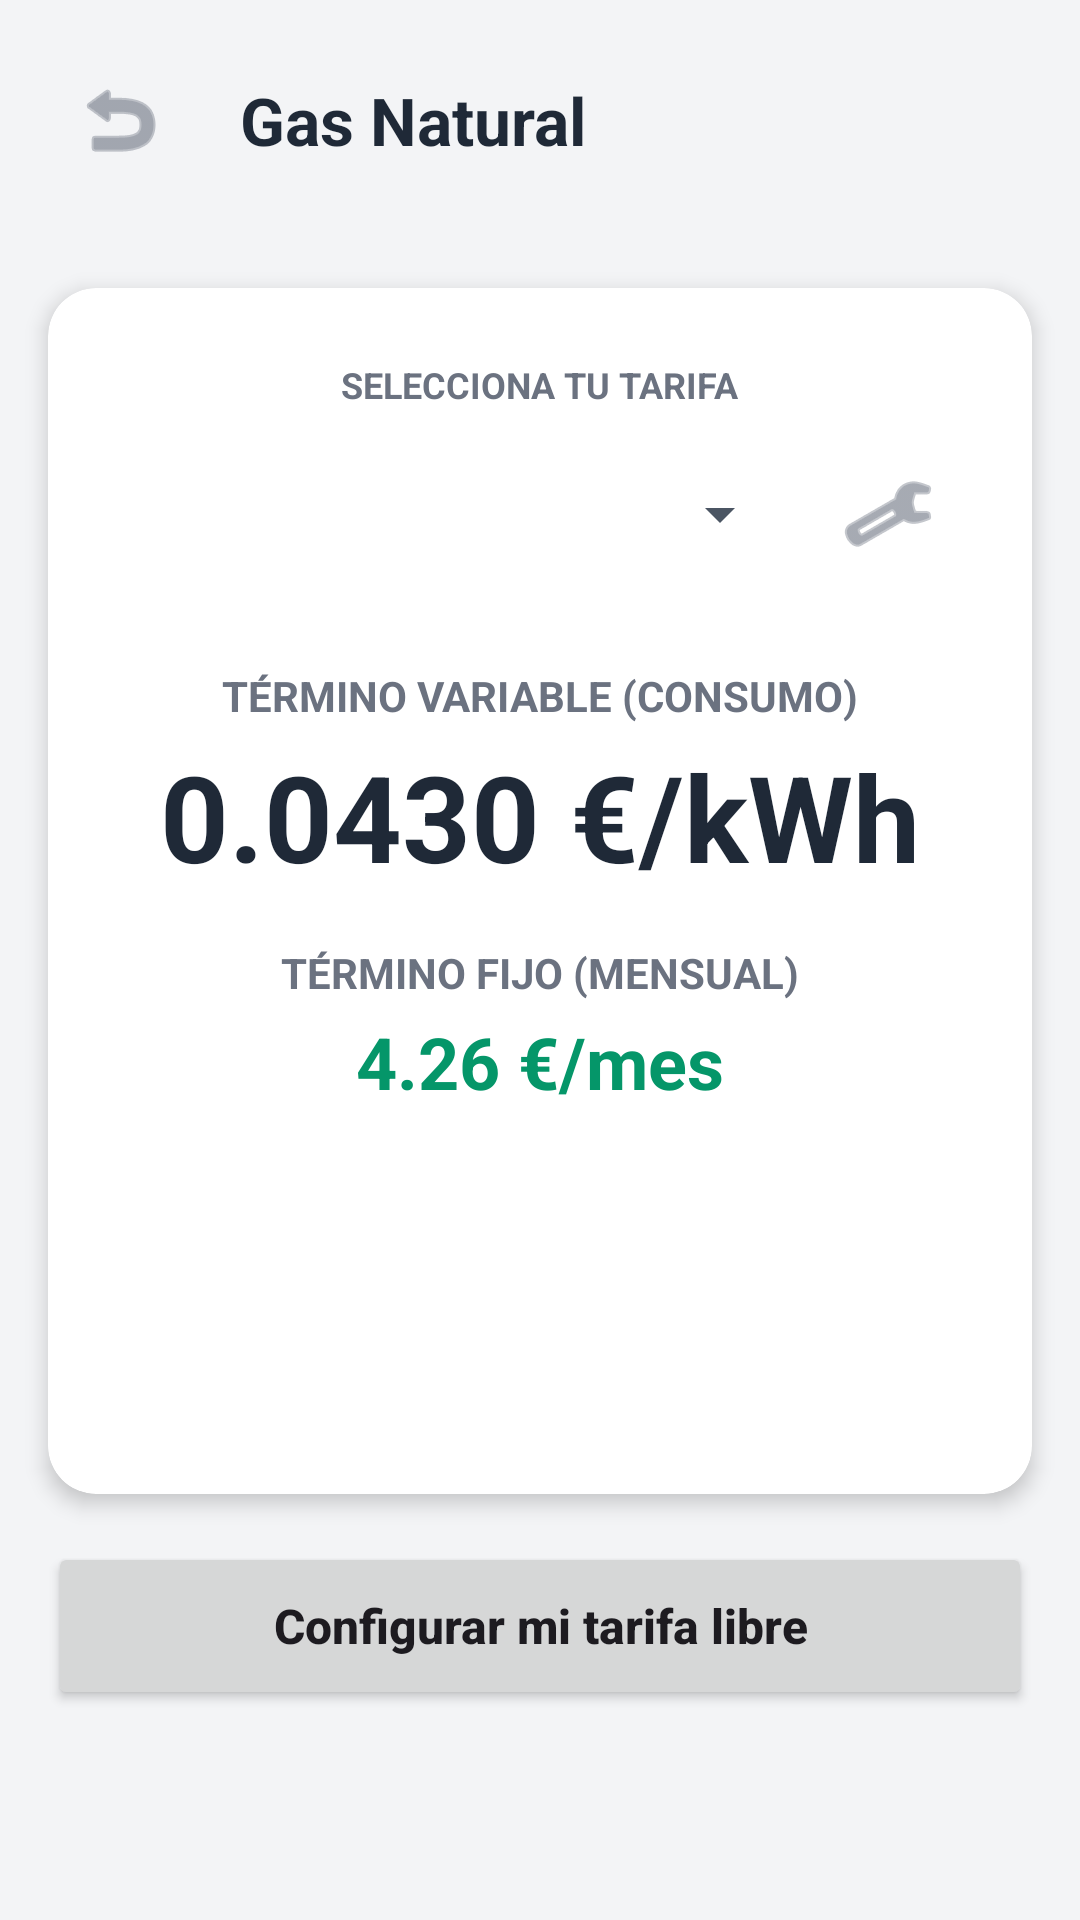

Point at icon controls on the screen. Image size 1080 × 1920, points as [x,y].
Volver: [121,121]
